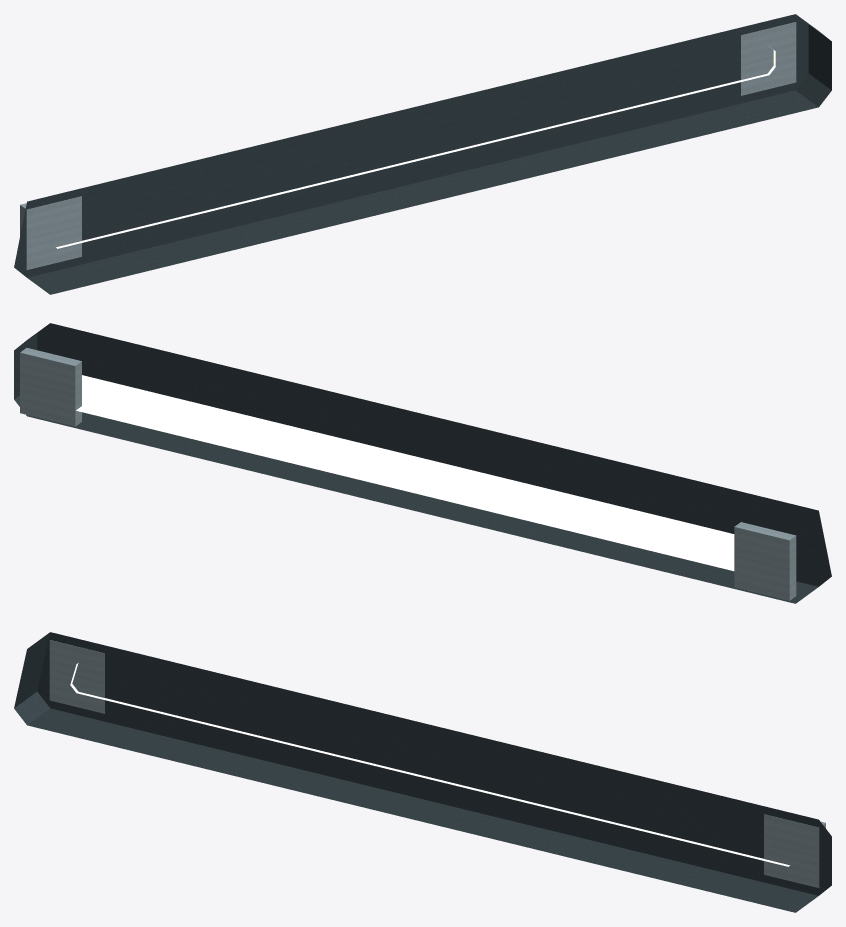
File: corridor_light_strip.glb
3 renders of one model, top to bottom at view 1: azimuth 30°, elevation 25°; view 2: azimuth 150°, elevation 25°; view 3: azimuth 330°, elevation 25°, orthographic.
Visible parts, largest first — view 1: Luminaire_Shell__graphite, Mounting_End_Caps__alloy, Light_Diffuser__glow; view 2: Luminaire_Shell__graphite, Light_Diffuser__glow, Mounting_End_Caps__alloy; view 3: Luminaire_Shell__graphite, Mounting_End_Caps__alloy, Light_Diffuser__glow.
Boxes of the visible parts, left/top/right/bottom form: Luminaire_Shell__graphite: left=14, top=14, right=831, bottom=294; Mounting_End_Caps__alloy: left=20, top=22, right=796, bottom=269; Light_Diffuser__glow: left=56, top=49, right=775, bottom=248; Luminaire_Shell__graphite: left=14, top=323, right=831, bottom=603; Light_Diffuser__glow: left=76, top=375, right=734, bottom=571; Mounting_End_Caps__alloy: left=20, top=348, right=796, bottom=600; Luminaire_Shell__graphite: left=14, top=632, right=831, bottom=912; Mounting_End_Caps__alloy: left=49, top=640, right=825, bottom=887; Light_Diffuser__glow: left=70, top=663, right=789, bottom=866.
Size of the model in its own units: 1.58 by 0.145 by 0.1025.
Materials: 3 (3 with a texture image).
